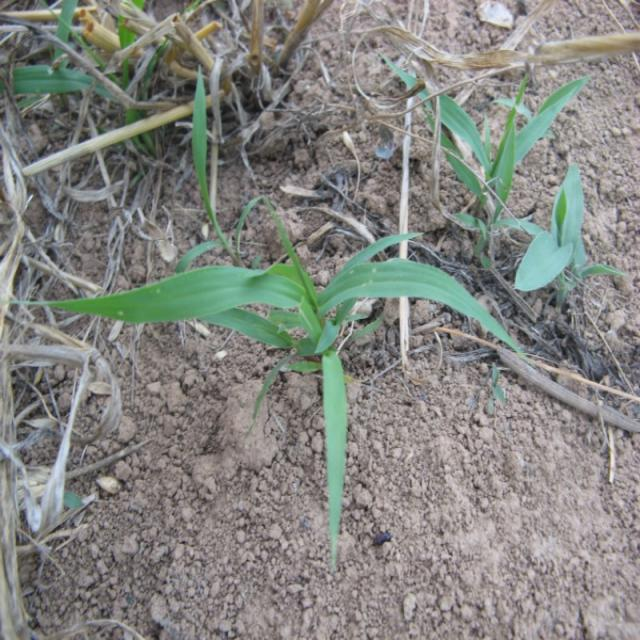bg: (46, 233, 519, 534)
